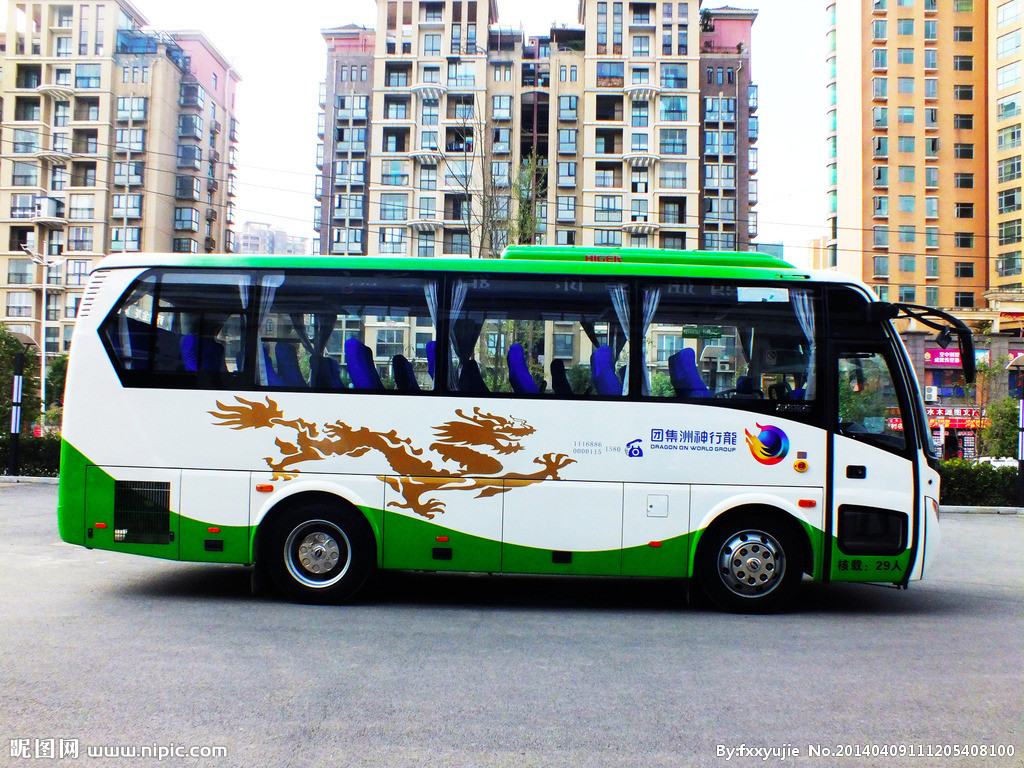bus: (50, 241, 996, 637)
